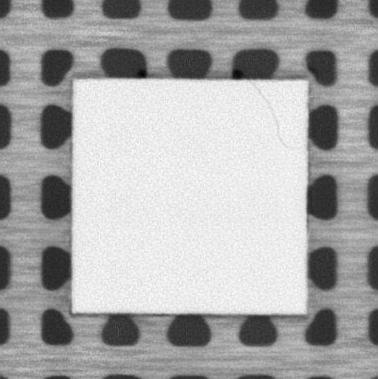DIE_CRACK: (251, 82, 289, 150)
